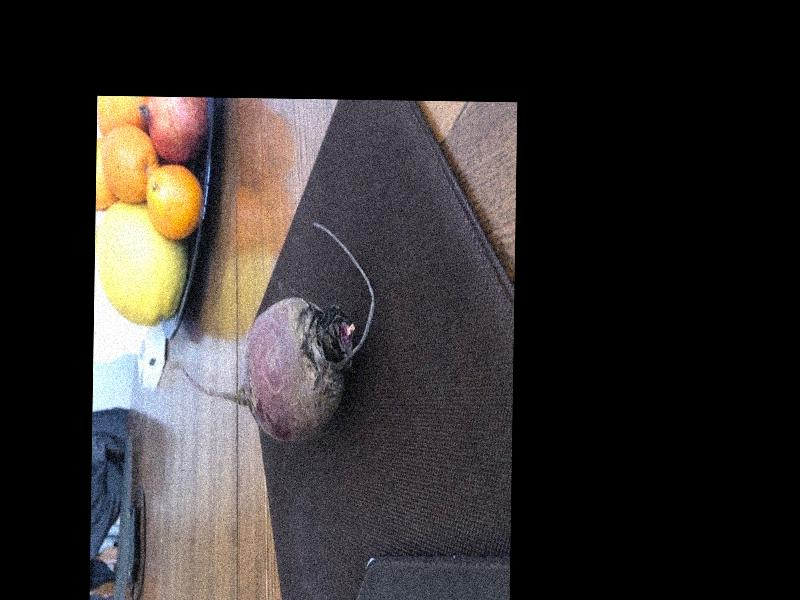Beet: (180, 219, 376, 443)
